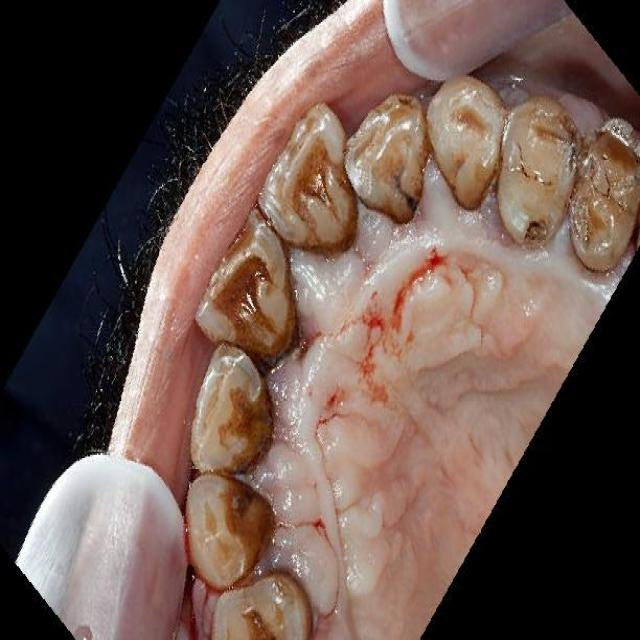caries: (524, 215, 554, 274)
